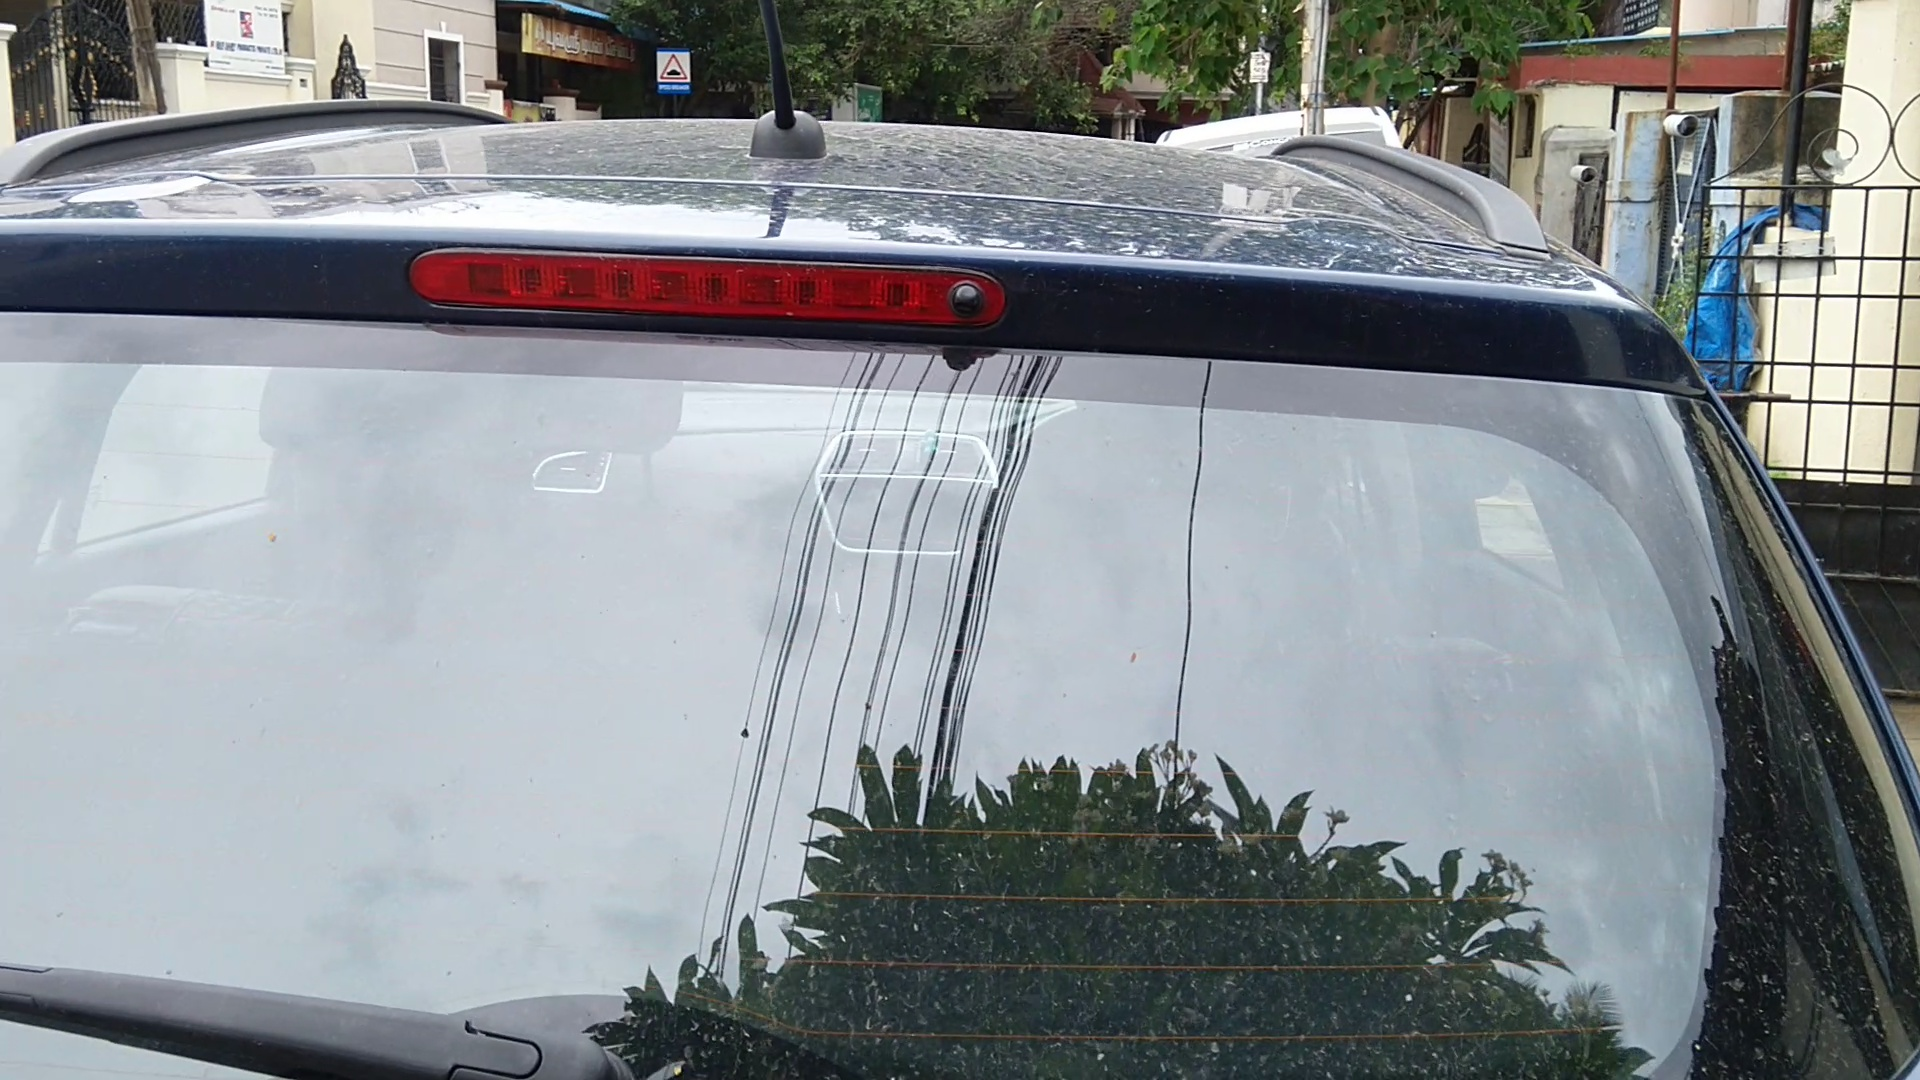rear_camera: (942, 272, 994, 328)
